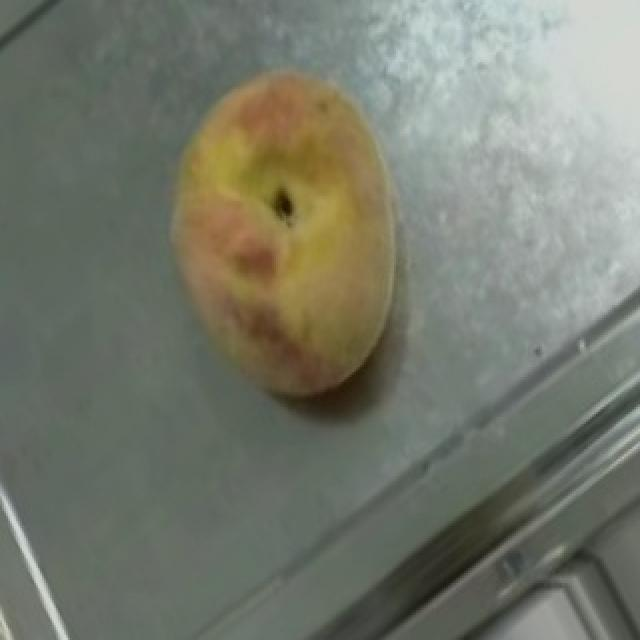Fruit: (128, 38, 448, 400)
